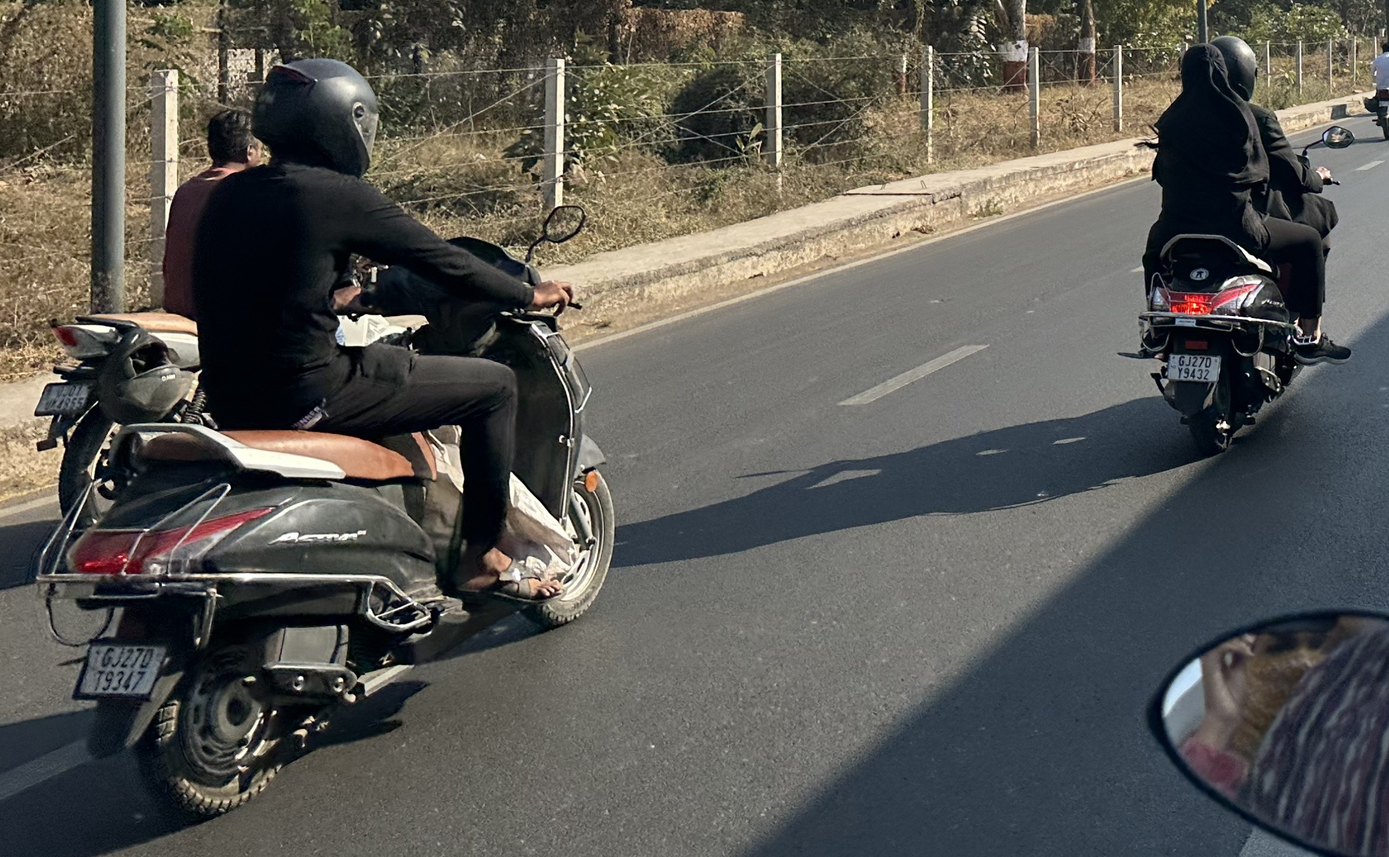BikeWithRider: (24, 48, 622, 830), (26, 95, 283, 549), (1107, 26, 1364, 473)
Helmet: (244, 51, 391, 191), (1207, 31, 1266, 105)
NoHelmet: (187, 96, 282, 177), (1167, 42, 1235, 110)
